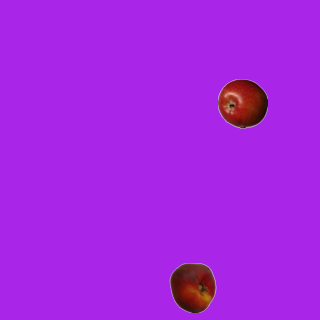Apple Braeburn: (217, 78, 267, 128)
Nectarine Flat: (167, 262, 217, 312)
